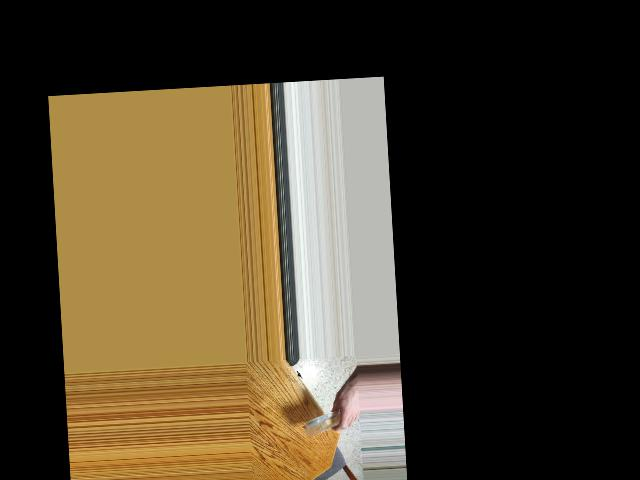cheese: (308, 409, 342, 439)
